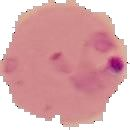parasitized: (6, 9, 126, 123), (81, 28, 127, 86)
